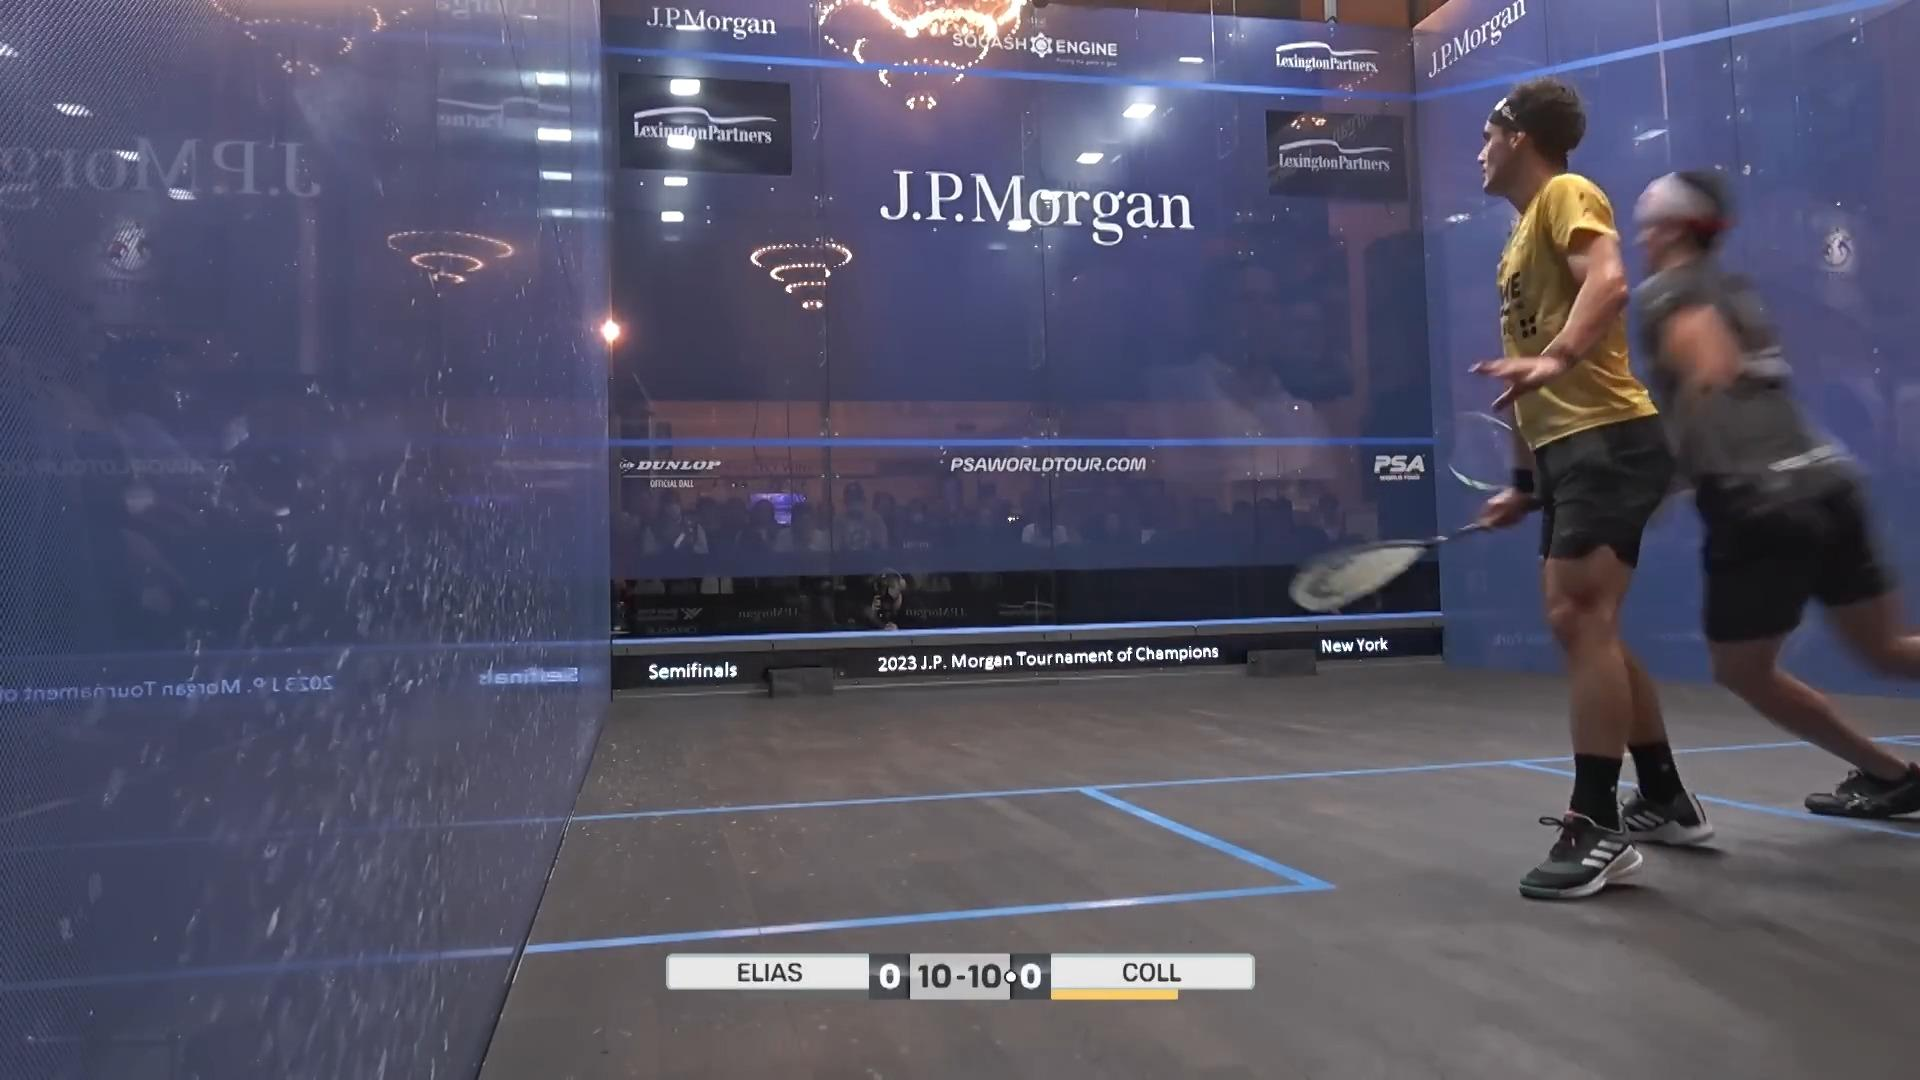Racket: (1282, 518, 1497, 624)
